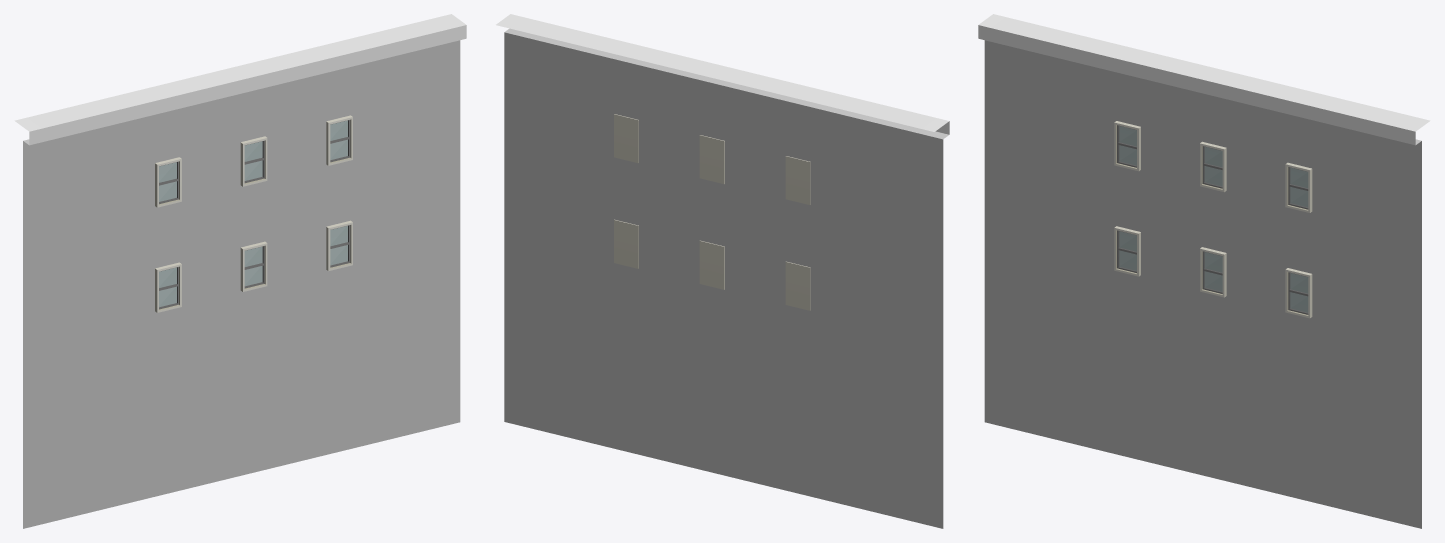
Rendered from CR_Room_002_wall.FBX.
3 views of the same model, side by side, from view 1: azimuth 30°, elevation 25°; view 2: azimuth 150°, elevation 25°; view 3: azimuth 330°, elevation 25° (orthographic).
Visible parts, largest first — view 1: CR_Room_002_wall, CR_Room_002_wall_win; view 2: CR_Room_002_wall, CR_Room_002_wall_win; view 3: CR_Room_002_wall, CR_Room_002_wall_win.
Boxes of the visible parts, x1,y1,x2,y2 form: CR_Room_002_wall: (23,40,460,528); CR_Room_002_wall_win: (14,14,466,312); CR_Room_002_wall: (504,32,943,528); CR_Room_002_wall_win: (496,14,949,310); CR_Room_002_wall: (984,40,1421,528); CR_Room_002_wall_win: (978,14,1430,318).
Size of the model in its own units: 2134 by 1873 by 127.
